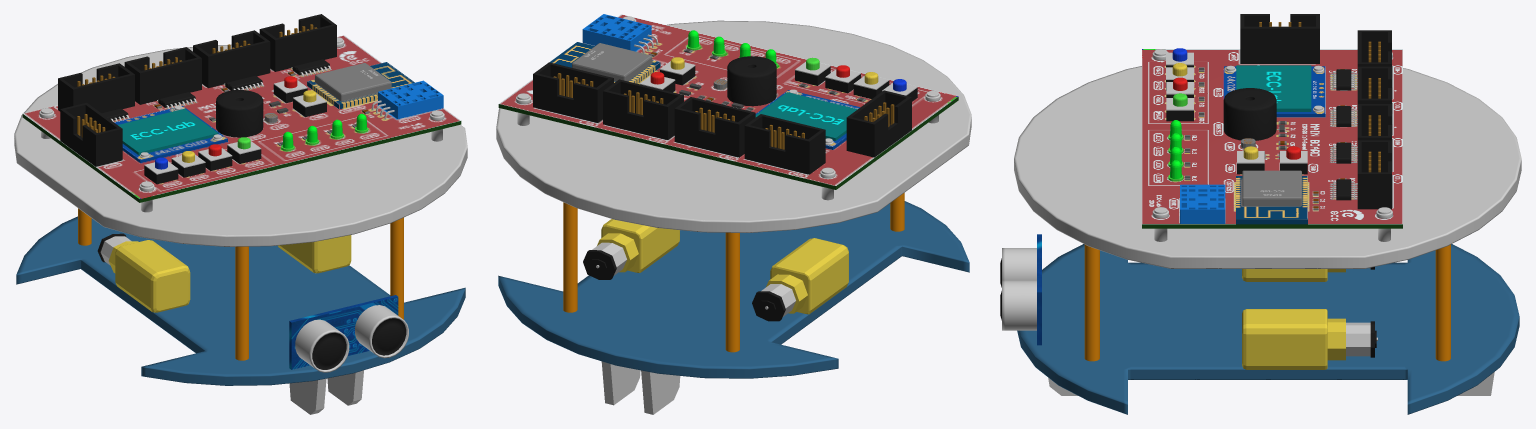
File: bot_base.gltf
The picture shows the model from 3 angles, left to right: view 1: azimuth 30°, elevation 25°; view 2: azimuth 150°, elevation 25°; view 3: azimuth 270°, elevation 25°; orthographic projection. The views are drawn at different scales.
Parts seen in each view (by area): view 1: Actor.Robot; view 2: Actor.Robot; view 3: Actor.Robot.
Part boxes in pixels (<box>): Actor.Robot: <box>14,14,467,414</box>; Actor.Robot: <box>496,14,971,414</box>; Actor.Robot: <box>1000,14,1521,414</box>.
Size of what is drawn, in the model's own units: 3.7 by 2.49 by 4.14.
Materials: 16 (3 with a texture image).
